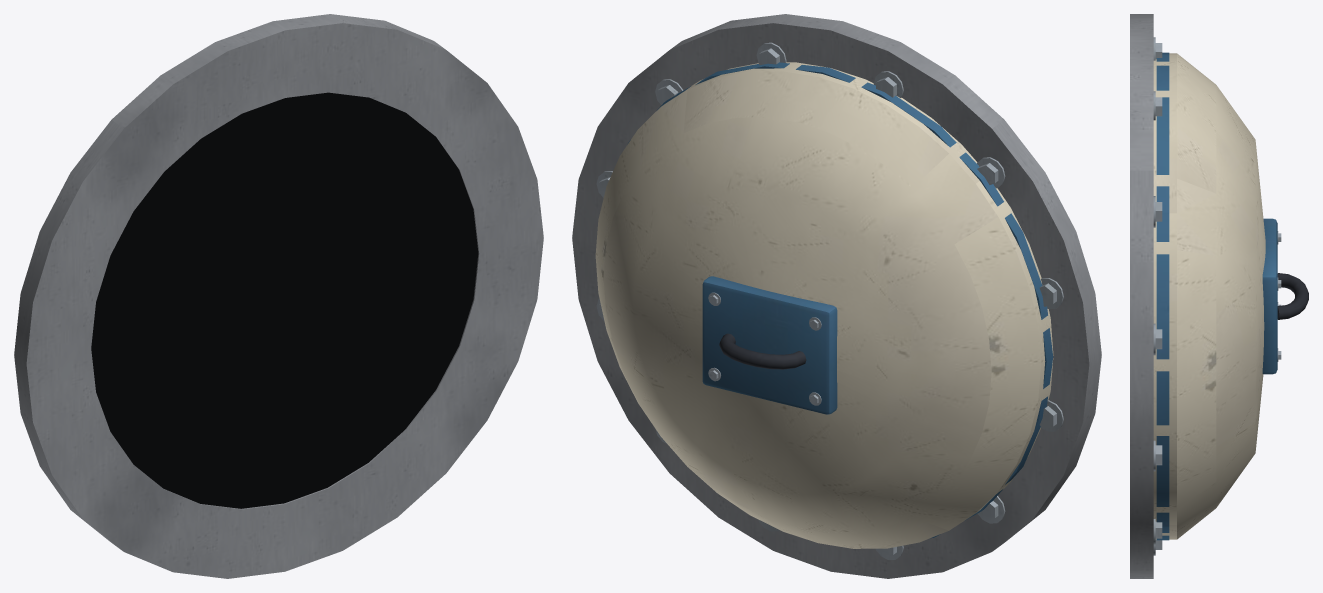
File: main_pipe_cap.glb
3 renders of one model, left to right at view 1: azimuth 30°, elevation 25°; view 2: azimuth 150°, elevation 25°; view 3: azimuth 270°, elevation 25°, orthographic. The views are drawn at different scales.
Parts seen in each view (by area): view 1: Body.010; view 2: Body.010; view 3: Body.010.
Boxes of the visible parts, x1,y1,x2,y2 form: Body.010: [14, 14, 543, 578]; Body.010: [572, 14, 1101, 578]; Body.010: [1130, 14, 1308, 578].
Bounding box in the file's own units: 0.72 × 0.72 × 0.2281.
Materials: 6 (5 with a texture image).
